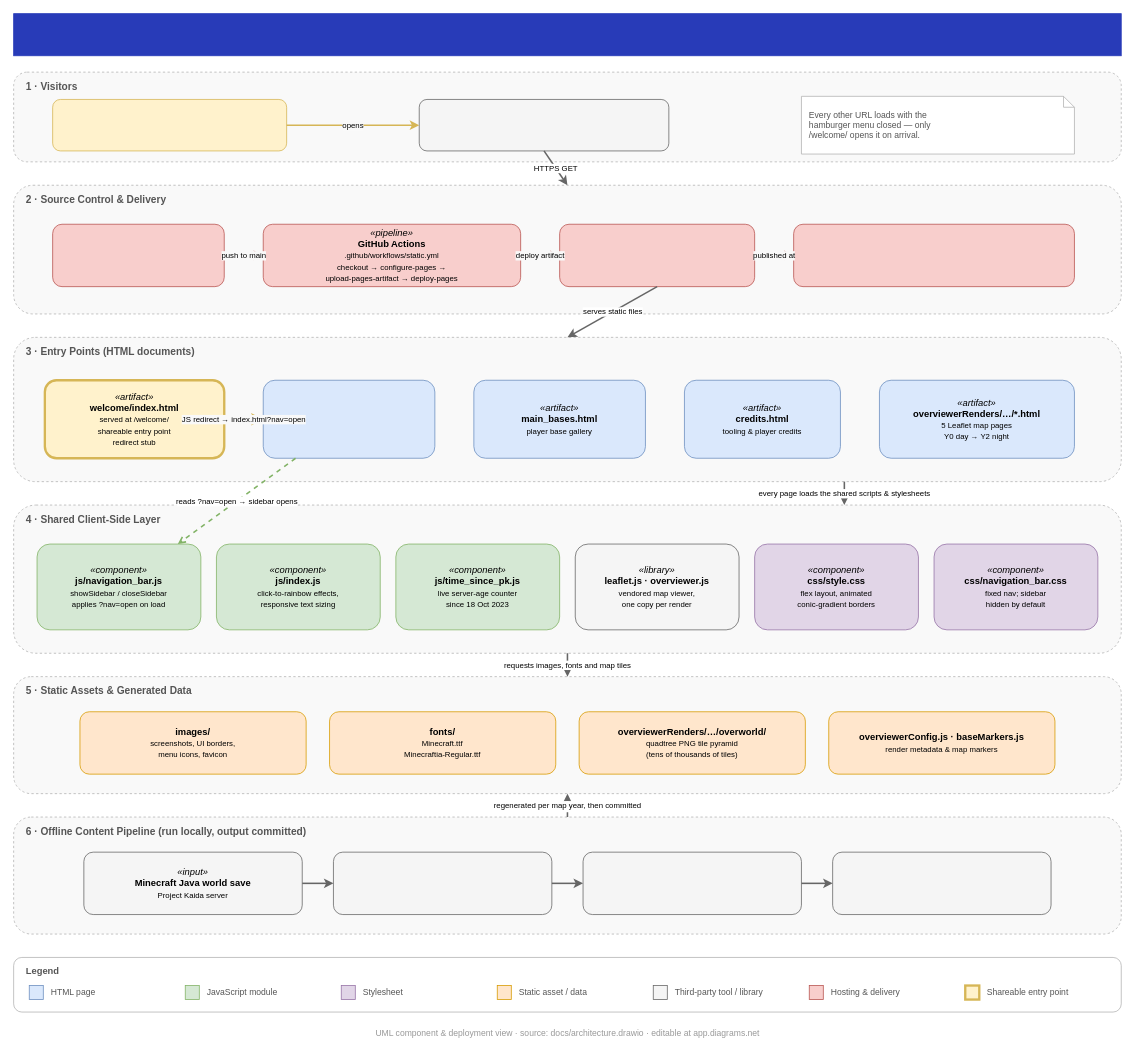
The diagram is 1140 pixels wide and 1056 high, and some of its shapes have lost their labels. The centre of each missing label's shape, as x and y in pixels:
Project Kaida — Website Architecture: (x=567, y=34)
«actor» CV · LinkedIn · Portfolio deep-links to /welcome/: (x=169, y=125)
«artifact» index.html server info, events, farms, nether networks, areas: (x=348, y=418)
«device» Visitor Browser desktop · tablet · mobile: (x=543, y=125)
«endpoint» dariuszkrych.github.io/Project_Kaida project-kaida.github.io/site: (x=933, y=255)
«execution environment» GitHub Pages static hosting + CDN no server-side runtime: (x=657, y=255)
«output» Committed to the repository overviewerRenders/…: (x=941, y=883)
«repository» GitHub · main single source of truth: (x=138, y=255)
«tool» MCA Selector chunk trimming & prep: (x=442, y=883)
«tool» Minecraft Overviewer Greg's fork · isometric tile render: (x=691, y=883)
